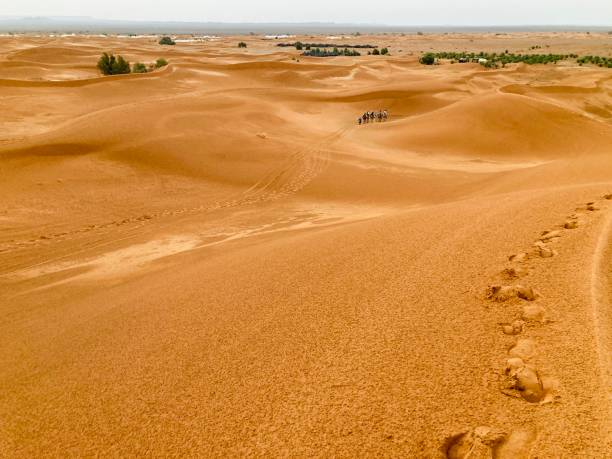animal_footprint: (442, 426, 536, 458), (501, 356, 558, 403), (486, 285, 537, 301), (508, 339, 535, 360), (521, 303, 549, 322), (500, 319, 524, 335), (501, 266, 526, 279), (539, 230, 560, 241), (508, 252, 527, 262), (586, 202, 599, 212), (563, 220, 577, 228), (603, 193, 611, 199)
